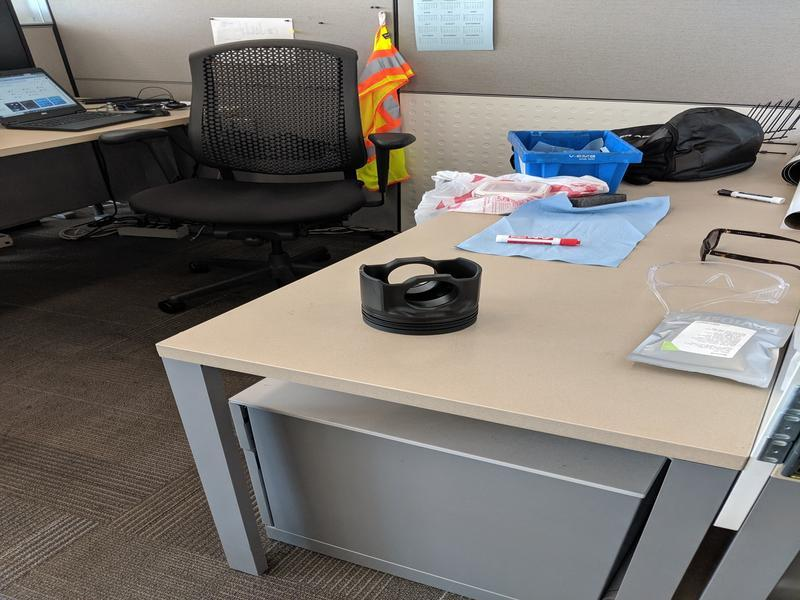piston: (352, 256, 488, 338)
